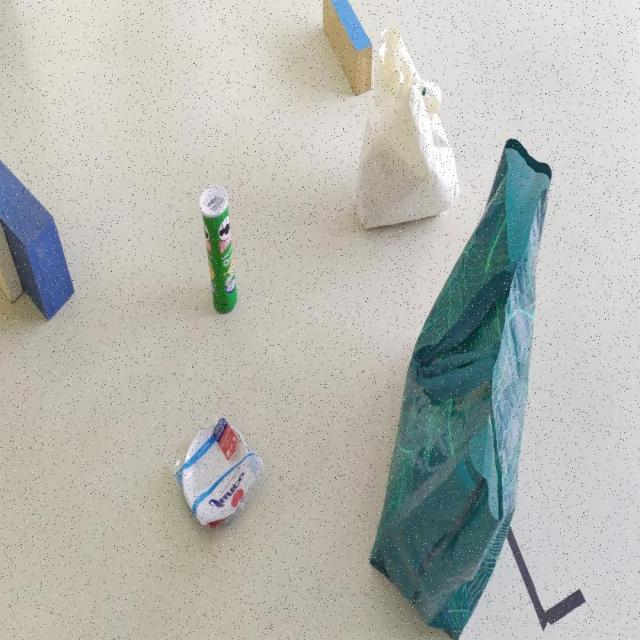Bag: (372, 134, 557, 640), (351, 27, 458, 235)
Plate: (181, 419, 250, 527)
Pringles: (199, 182, 237, 315)
